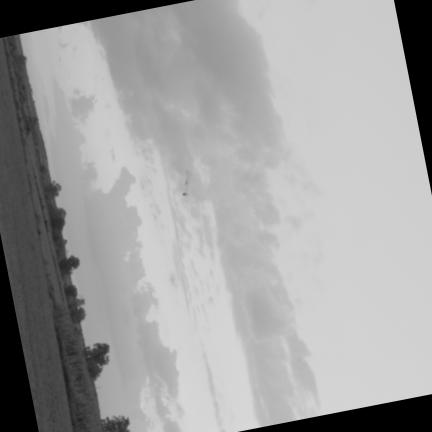Shahed: (182, 170, 192, 195)
